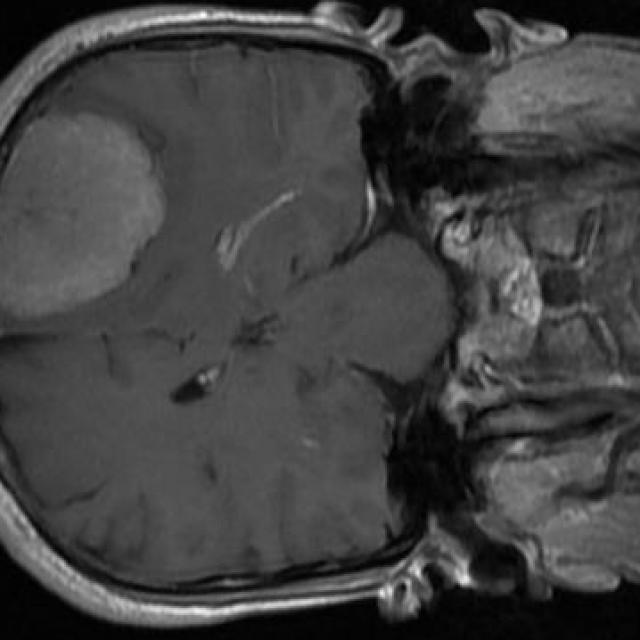meningioma: (0, 118, 159, 323)
